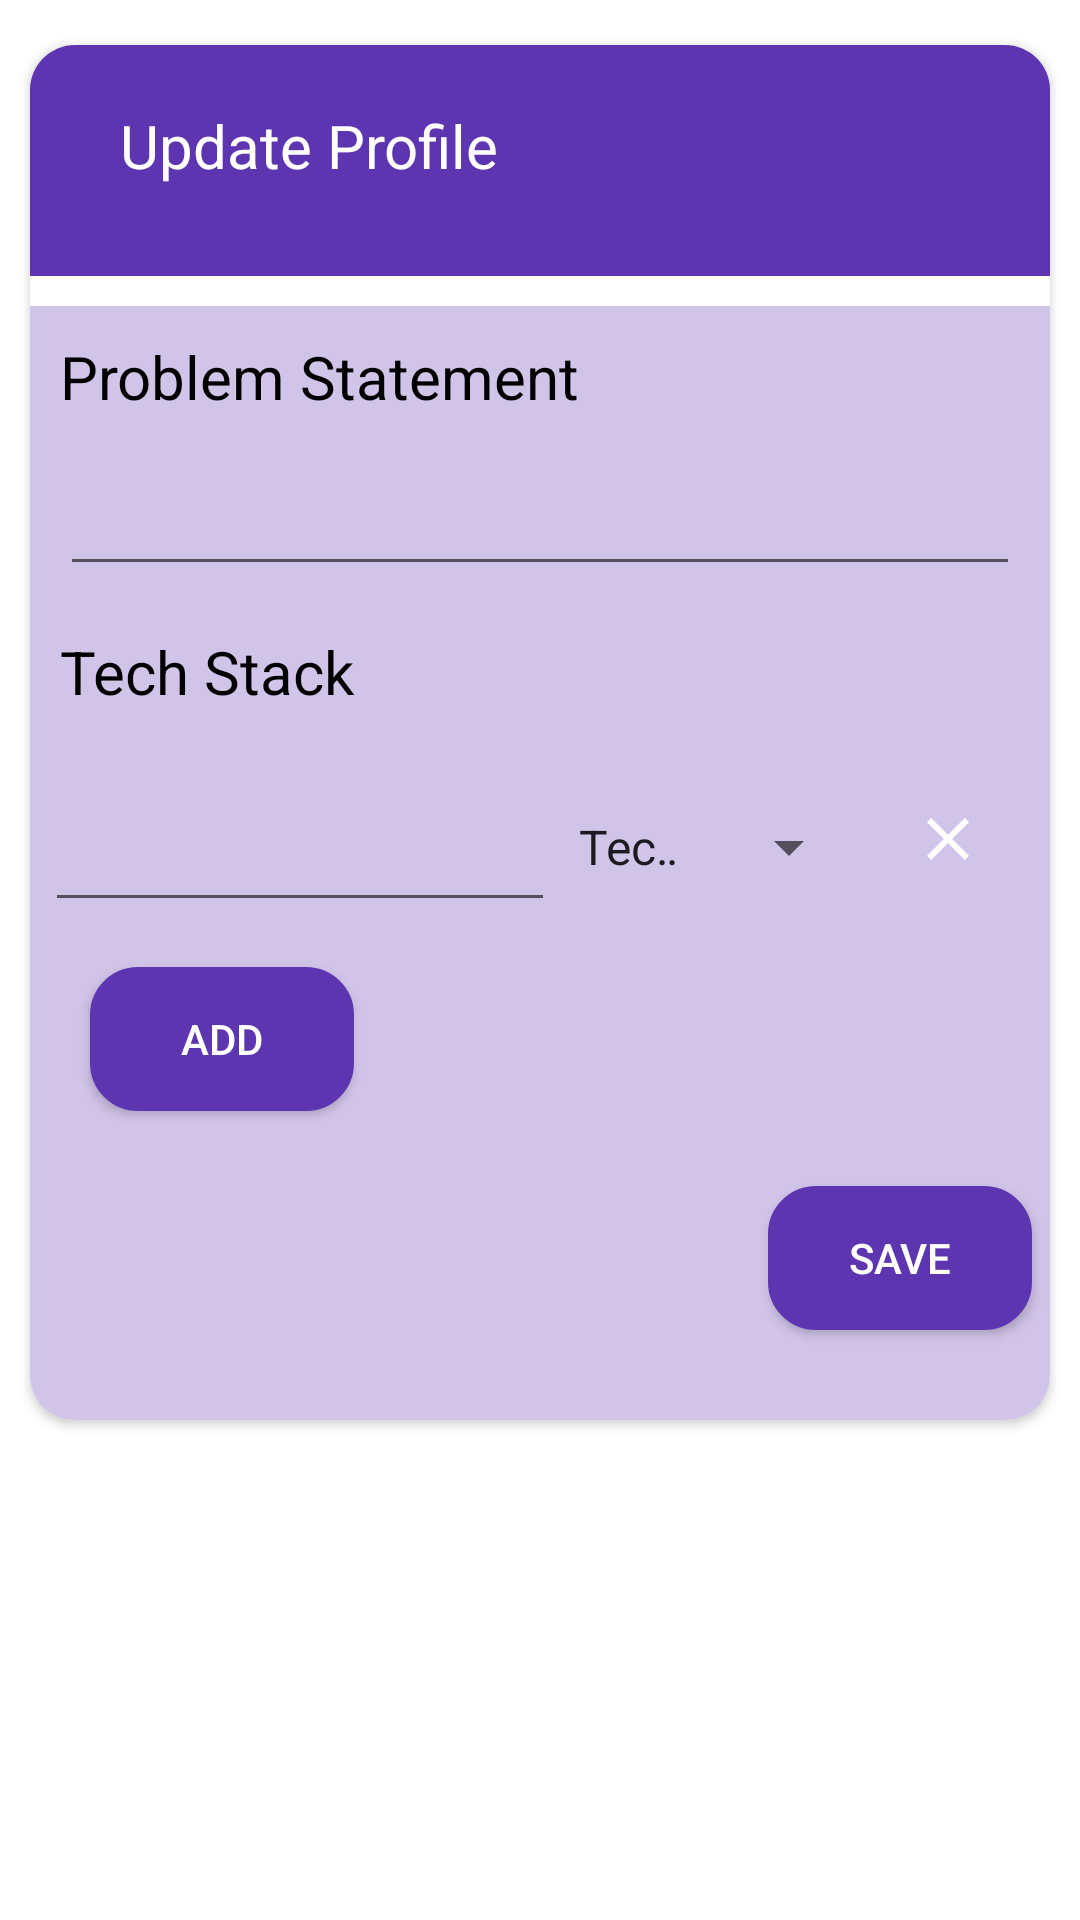

Where icons sit on this 1080w x 1920h app screen, as (x1, y1, x2, y2):
close: (927, 818, 969, 860)
